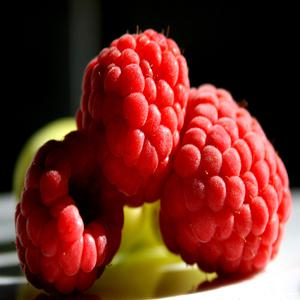raspb: (18, 21, 297, 295)
